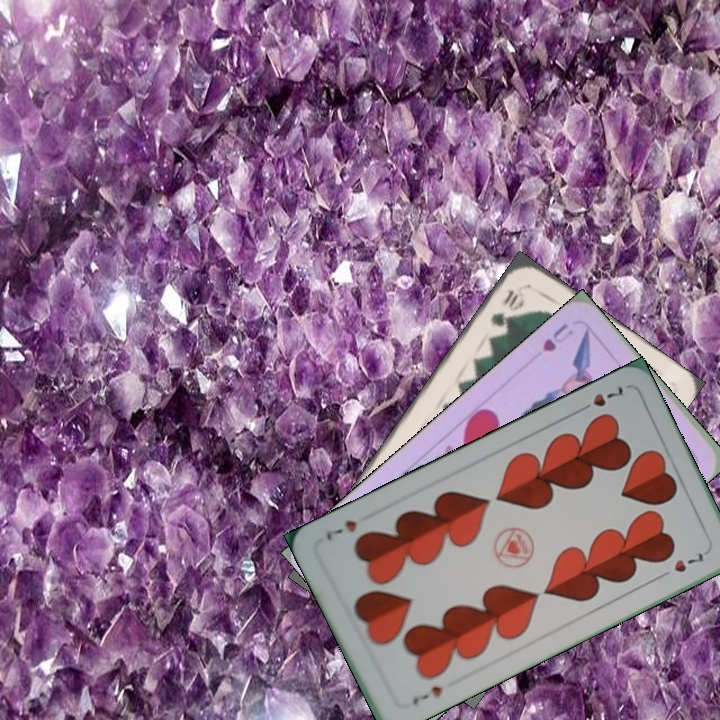G10: (486, 282, 524, 330)
H7: (573, 381, 626, 416), (408, 682, 445, 708)
HU: (538, 319, 576, 355)
